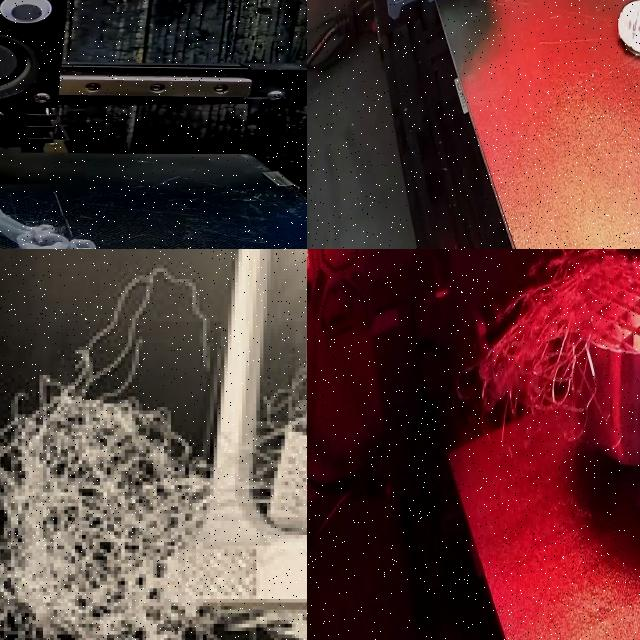spaghetti: (0, 286, 307, 640), (478, 249, 640, 425)
